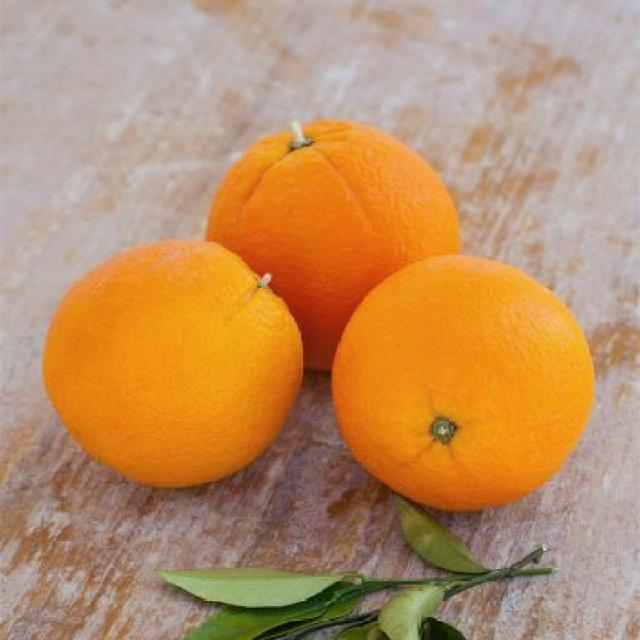Jeruk Sudah Matang: (330, 254, 592, 514), (206, 118, 459, 380), (44, 242, 302, 489)
